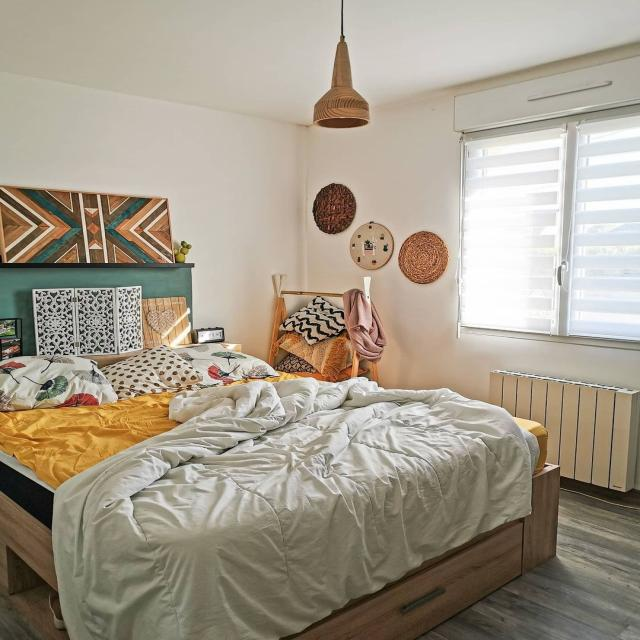bed: (4, 256, 519, 625)
